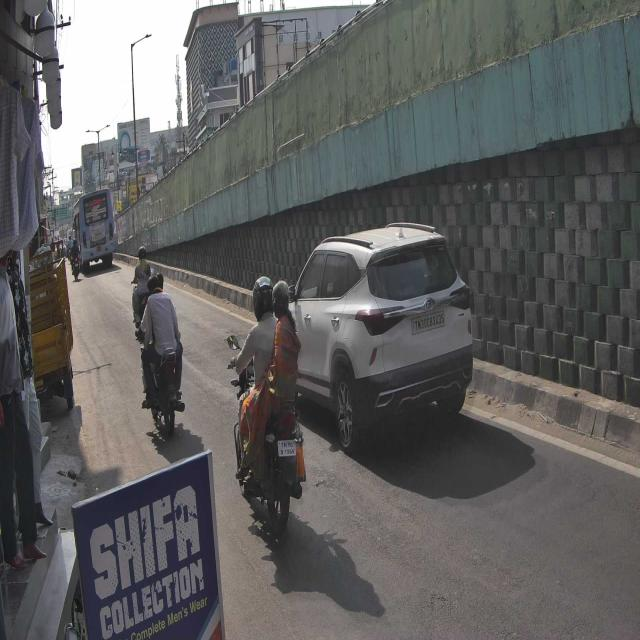double_rider: (226, 274, 308, 534)
